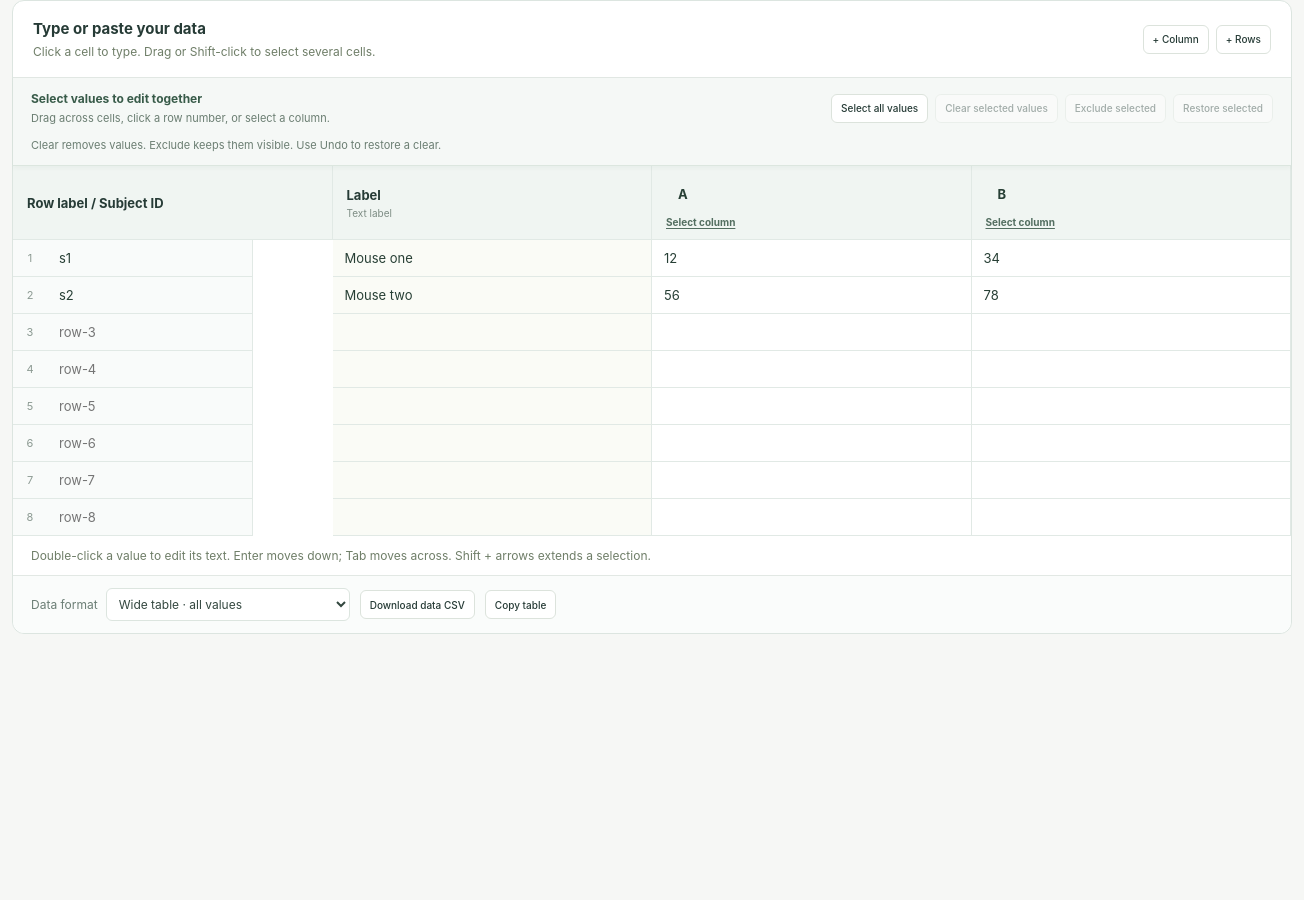
it: commits a single-cell keyboard clear as one real deletion and preserves its row and labels after remount
Press the mouse on the field named "A, row 1" at (811, 258), box [652,240,970,276]
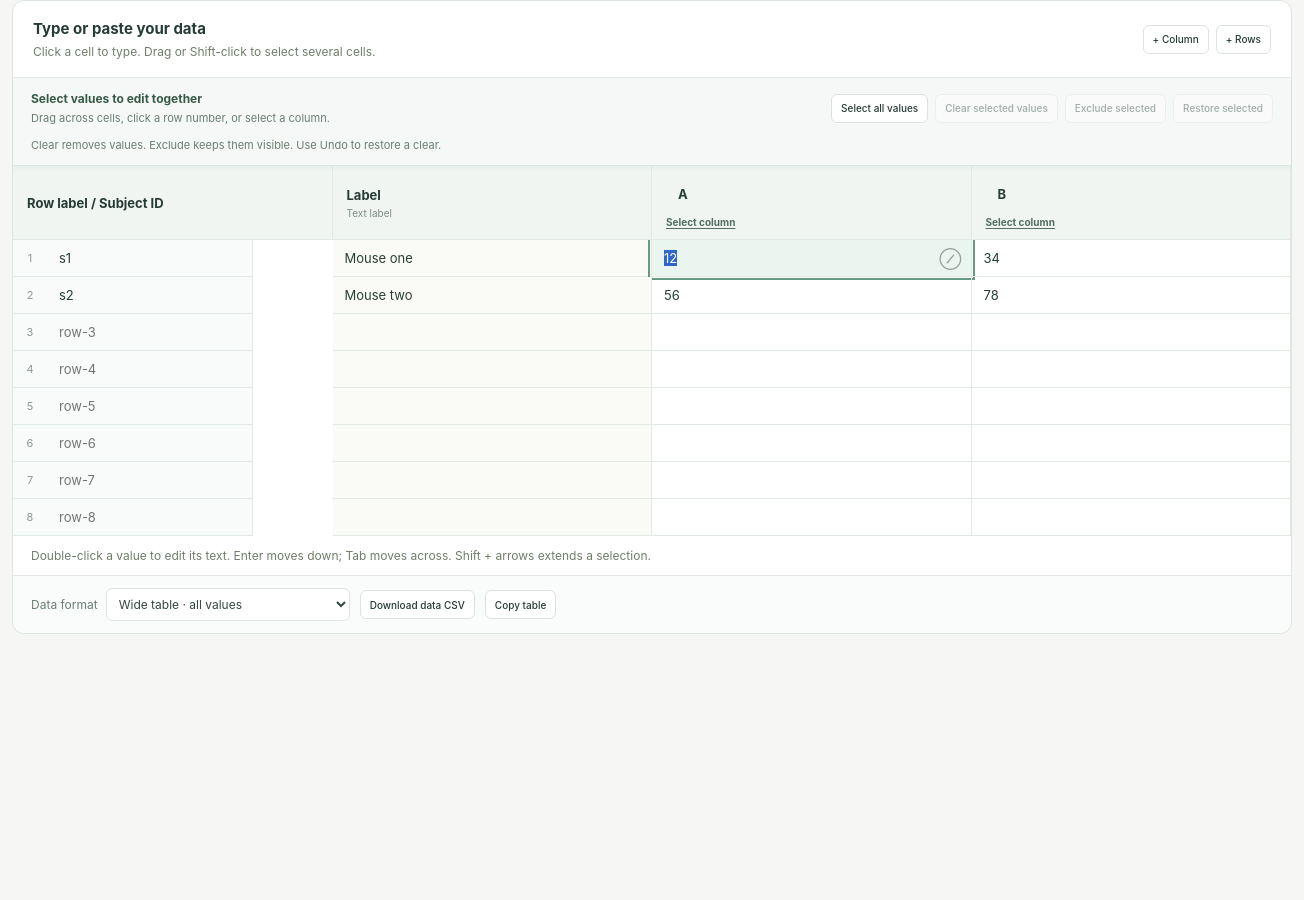
Press Backspace in the field named "A, row 1", box [652,240,970,276]
Clear the field named "A, row 1" at (811, 258), box [652,240,970,276]
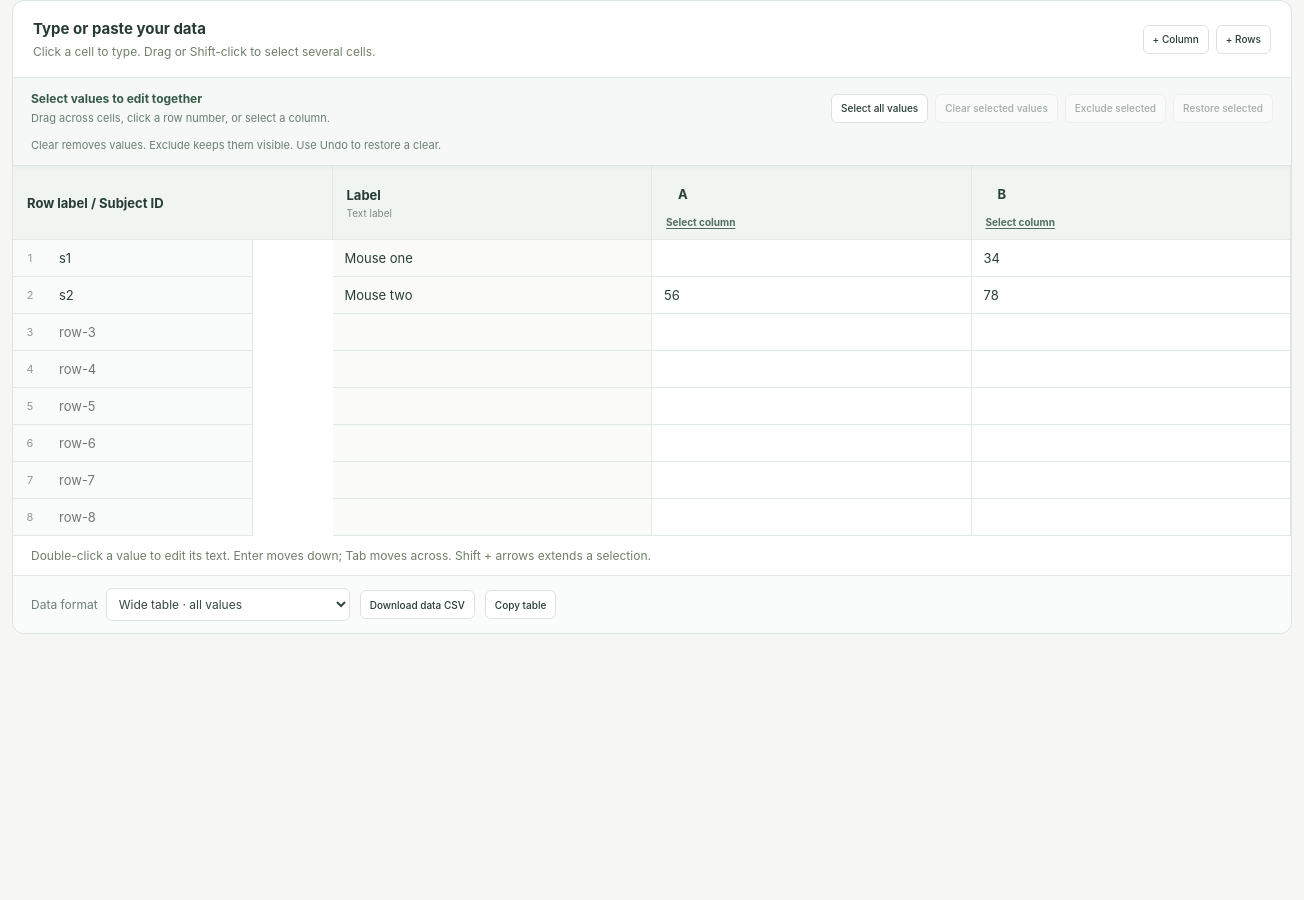
Expected: the field named "Label, row 1" holds "Mouse one", [332,240,651,276]
Result: the field named "A, row 1" is empty at [652,240,970,276]
